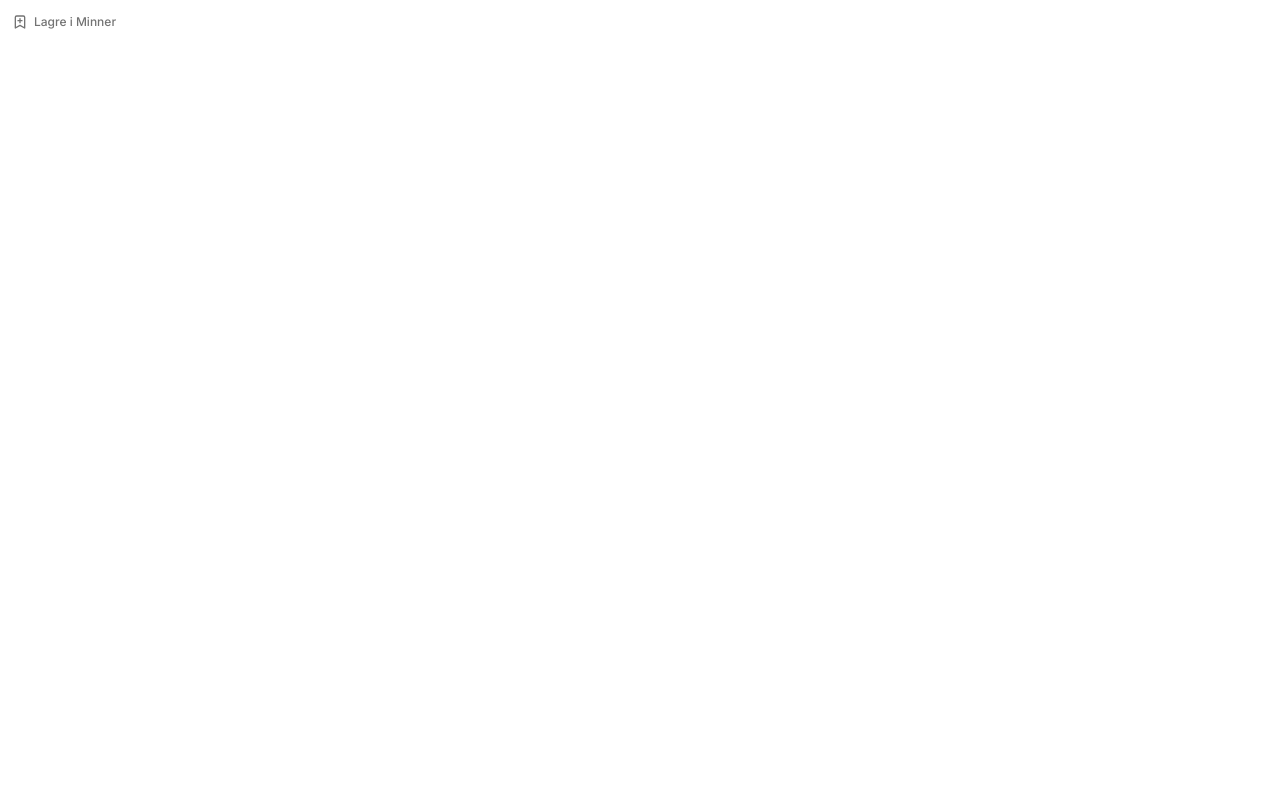
Scenario: SaveToMinnerButton › shows error and retries
The width and height of the screenshot is (1280, 800).
What coordinates should you click on to do the following:
click the button
I would click on:
 (64, 22)
Its box is [0,0,128,44].
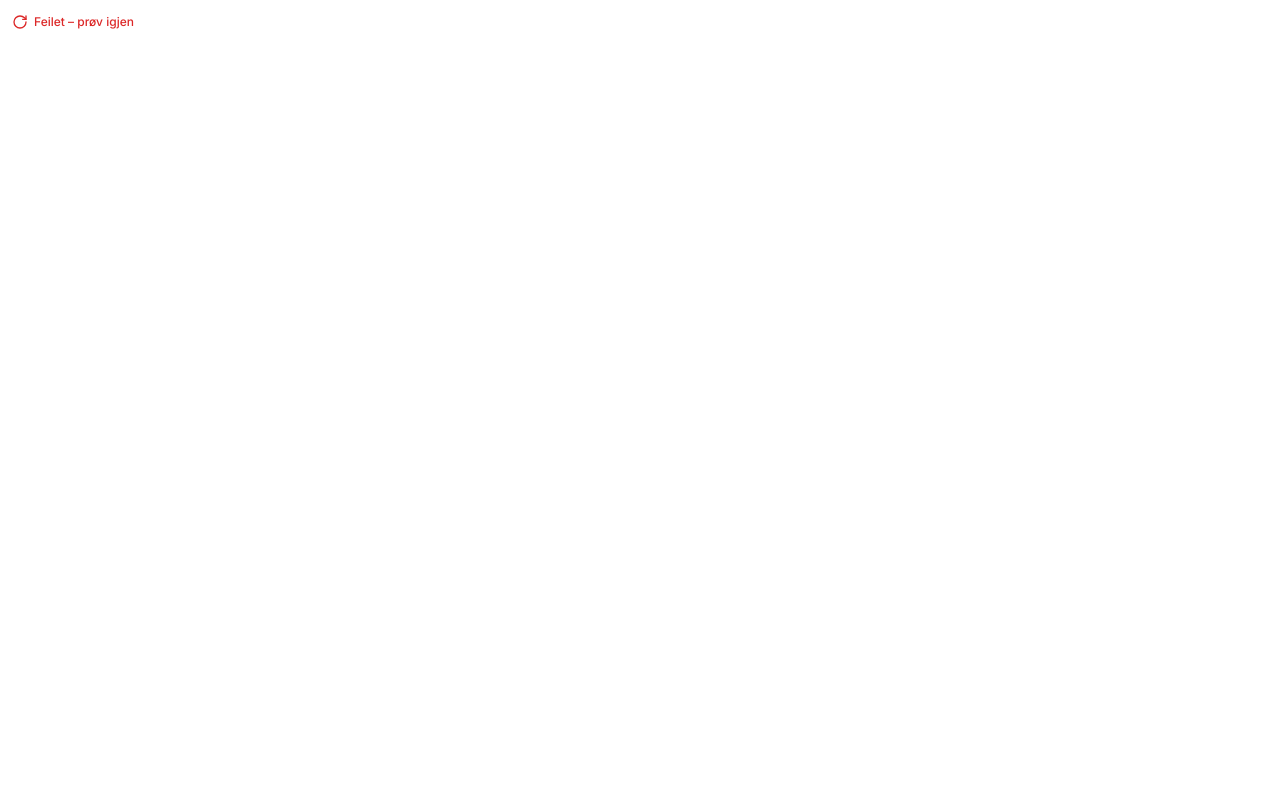
Result: the button "Feilet – prøv igjen" is shown
What coordinates should you click on to do the following:
click the button
I would click on:
 (73, 22)
Its box is [0,0,146,44].
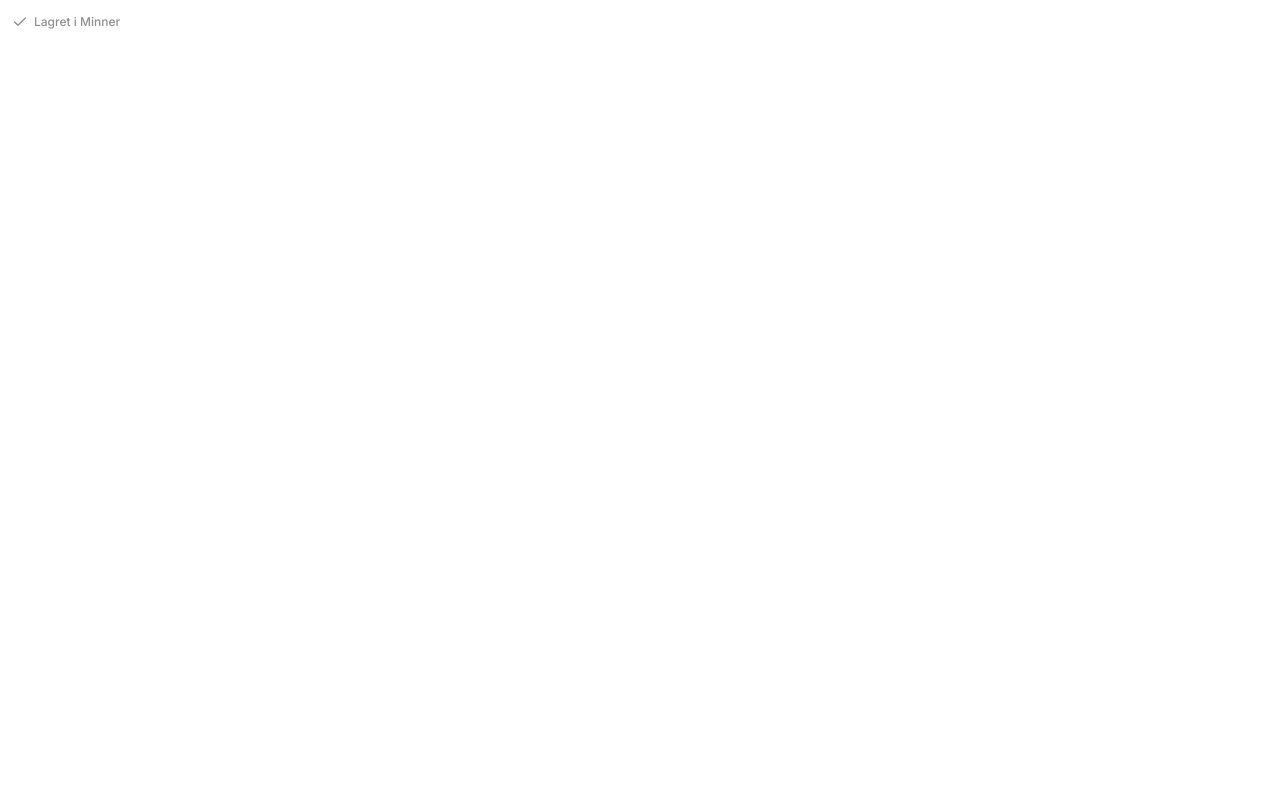
Result: the button "Lagret i Minner" is shown at [0,0,132,44]
